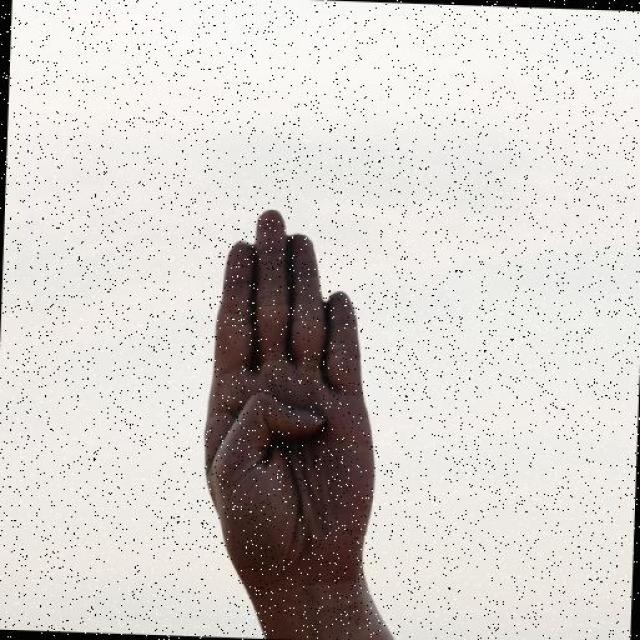B: (194, 204, 389, 601)
